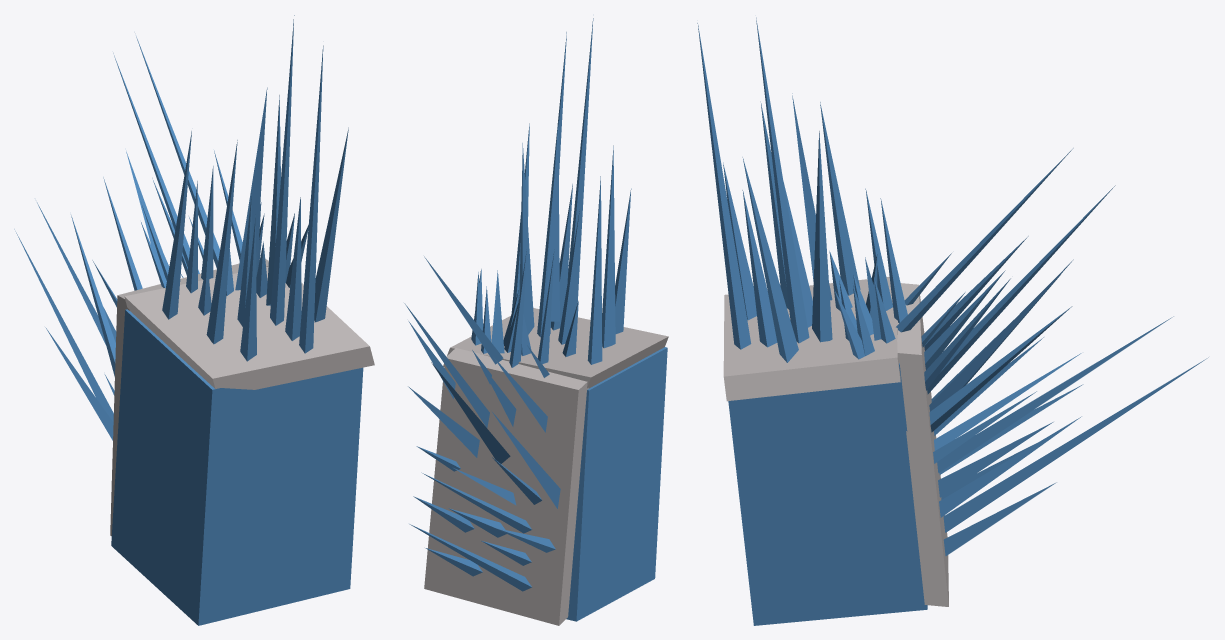
File: PointysideStructure.fbx
The picture shows the model from 3 angles, left to right: view 1: azimuth 30°, elevation 25°; view 2: azimuth 150°, elevation 25°; view 3: azimuth 270°, elevation 25°; orthographic projection. The views are drawn at different scales.
Parts seen in each view (by area): view 1: Glacier1; view 2: Glacier1; view 3: Glacier1.
Part boxes in pixels (<box>): Glacier1: <box>14,15,374,625</box>; Glacier1: <box>404,18,668,625</box>; Glacier1: <box>697,17,1208,625</box>.
Bounding box in the file's own units: 17.54 × 60.69 × 47.66.
